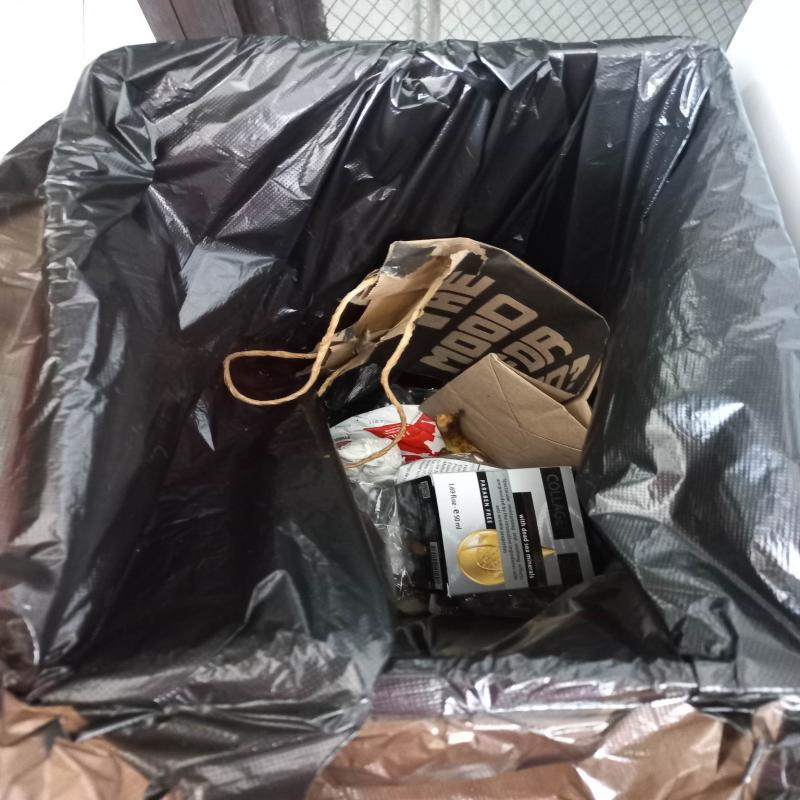cardboard: (396, 466, 595, 596)
paper: (221, 238, 610, 470)
